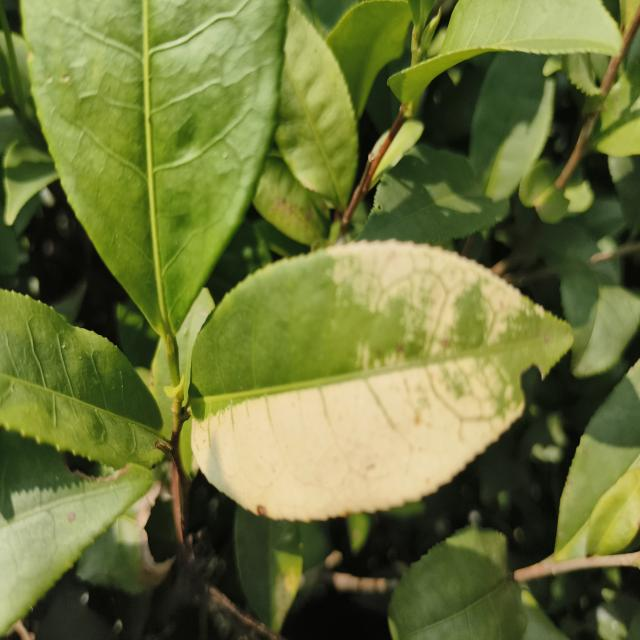Leaf: (190, 240, 573, 521), (22, 0, 287, 339), (0, 428, 152, 635), (0, 289, 164, 468), (388, 0, 621, 101), (275, 7, 358, 209), (555, 367, 640, 559), (388, 527, 530, 640), (359, 145, 508, 244), (469, 52, 555, 199), (326, 0, 411, 118), (560, 258, 640, 377), (234, 507, 303, 632), (253, 156, 329, 245), (586, 467, 640, 556), (3, 142, 58, 225), (596, 73, 640, 157)
